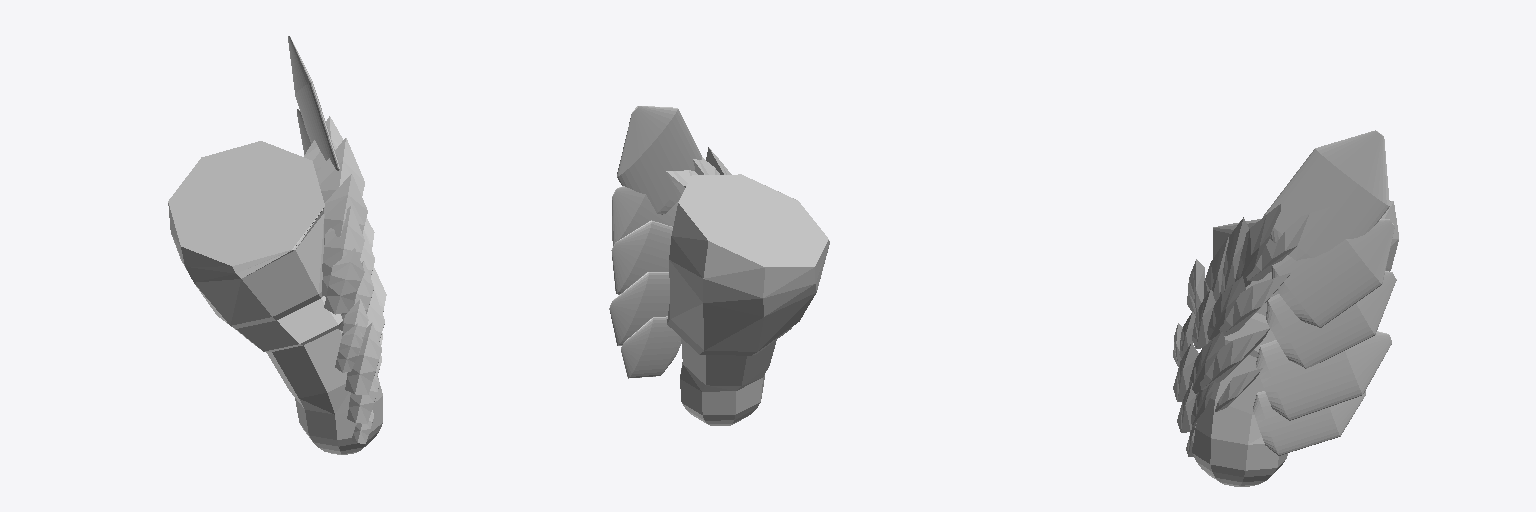
Rendered from Lude.obj.
3 views of the same model, side by side, from view 1: azimuth 30°, elevation 25°; view 2: azimuth 150°, elevation 25°; view 3: azimuth 270°, elevation 25° (orthographic).
Visible parts, largest first — view 1: 球.005; view 2: 球.005; view 3: 球.005.
Boxes of the visible parts, x1,y1,x2,y2 form: 球.005: [168, 36, 386, 454]; 球.005: [609, 106, 829, 425]; 球.005: [1173, 130, 1398, 486].
Size of the model in its own units: 1.05 by 1.78 by 0.9807.